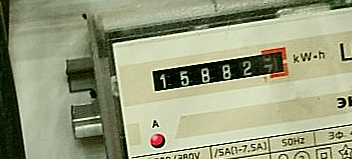1: (154, 69, 165, 86)
2: (237, 56, 249, 74)
5: (175, 66, 187, 83)
7: (260, 59, 270, 72)
8: (216, 60, 229, 78), (196, 64, 208, 81)
screen: (140, 39, 293, 99)
